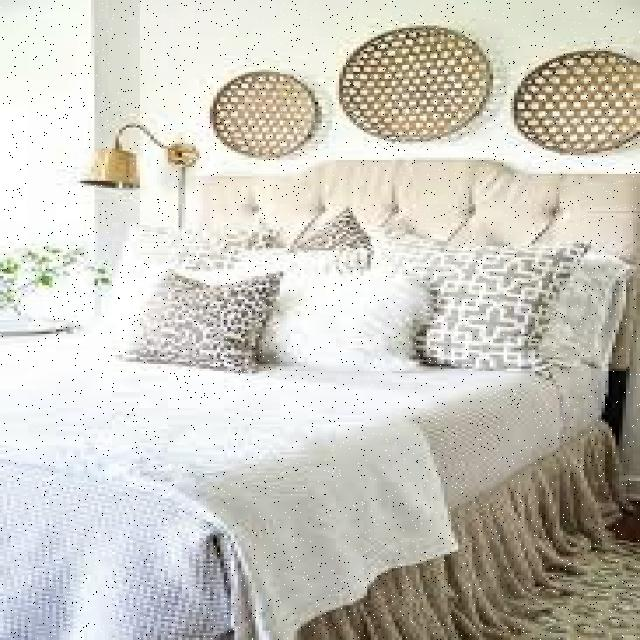bed: (0, 233, 640, 632)
